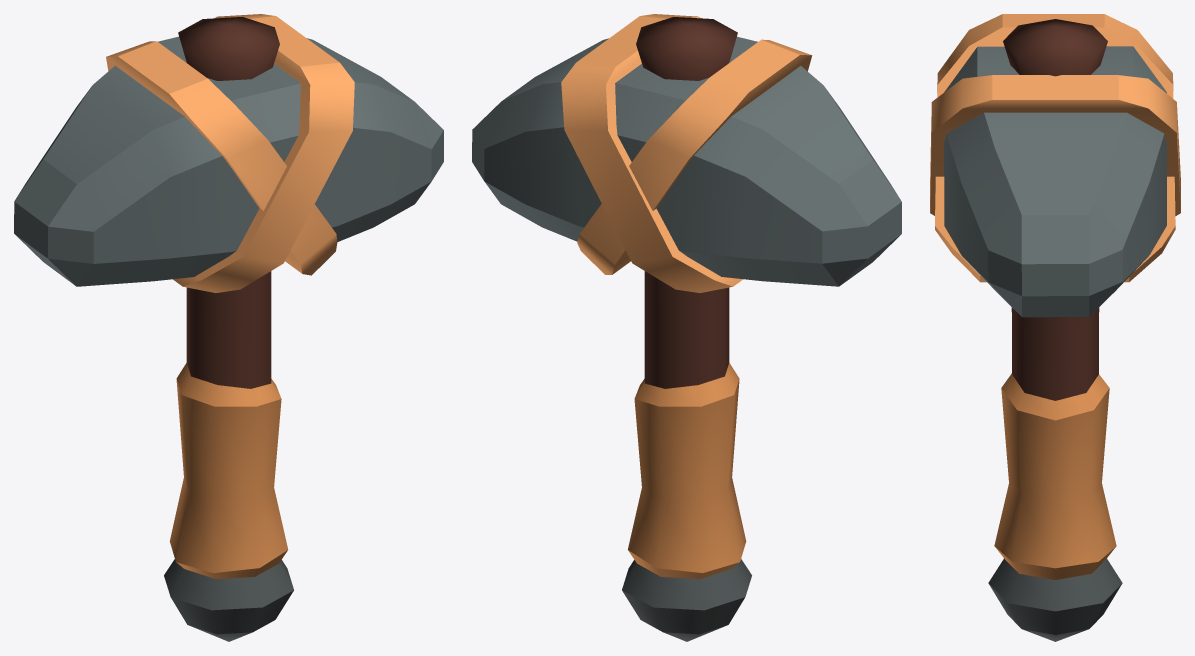
The model's file is Axe_RHand_10.fbx.
3 renders of one model, left to right at view 1: azimuth 30°, elevation 25°; view 2: azimuth 150°, elevation 25°; view 3: azimuth 270°, elevation 25°, orthographic.
Visible parts, largest first — view 1: Axe_RHand_10; view 2: Axe_RHand_10; view 3: Axe_RHand_10.
Part boxes in pixels (left/top/right/bottom): Axe_RHand_10: left=14, top=14, right=443, bottom=641; Axe_RHand_10: left=472, top=14, right=901, bottom=641; Axe_RHand_10: left=930, top=14, right=1180, bottom=641.
Size of the model in its own units: 35.23 by 52.51 by 19.4.
